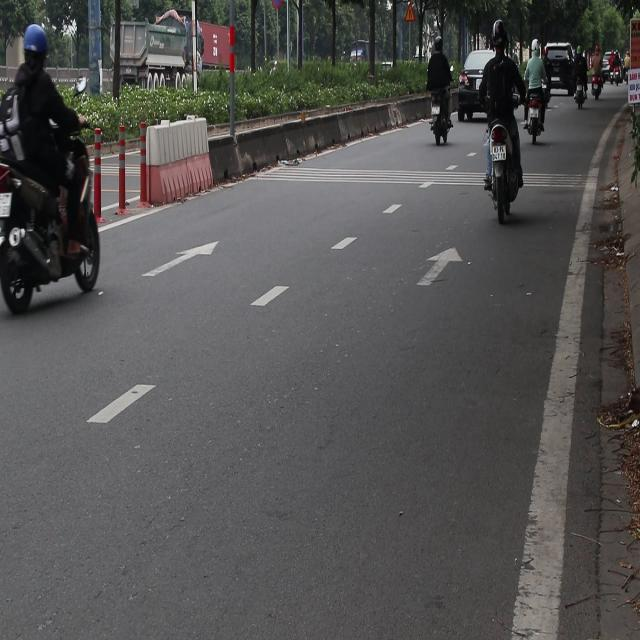car: (458, 51, 495, 118), (544, 43, 576, 94)
motorbike: (0, 104, 104, 320), (490, 113, 524, 231), (521, 93, 549, 150), (428, 90, 451, 150), (573, 73, 589, 113), (591, 74, 604, 100)
truck: (96, 12, 199, 111), (174, 6, 236, 90)
